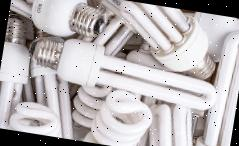lightbulb: (0, 0, 229, 146), (24, 30, 105, 88), (82, 85, 155, 146), (147, 10, 212, 76), (27, 0, 110, 43), (0, 13, 37, 85), (6, 98, 66, 137), (178, 48, 216, 82)
